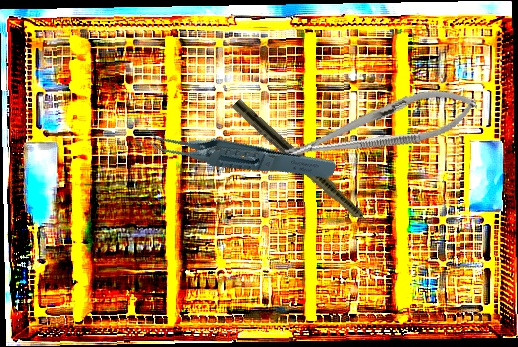Handpiece: (229, 97, 390, 245)
Needle Holder: (279, 78, 482, 177)
Tissue Forceps: (140, 88, 338, 216)
